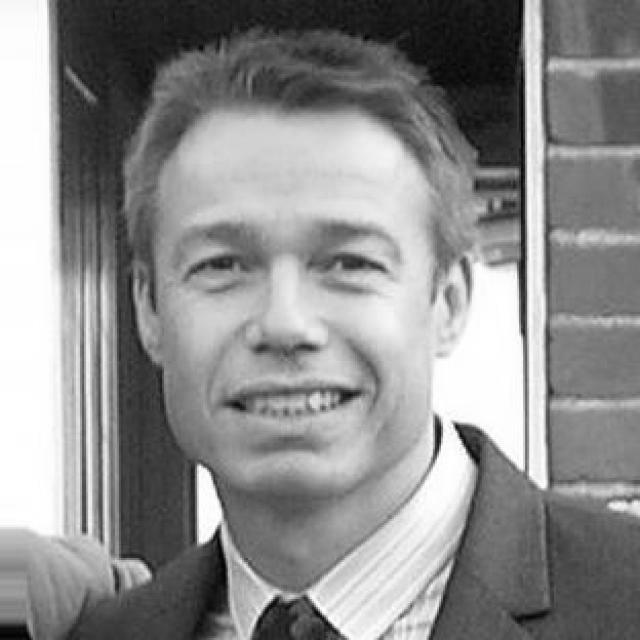real: (150, 152, 433, 500)
